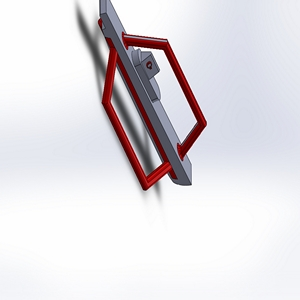submarine: (62, 1, 228, 202)
